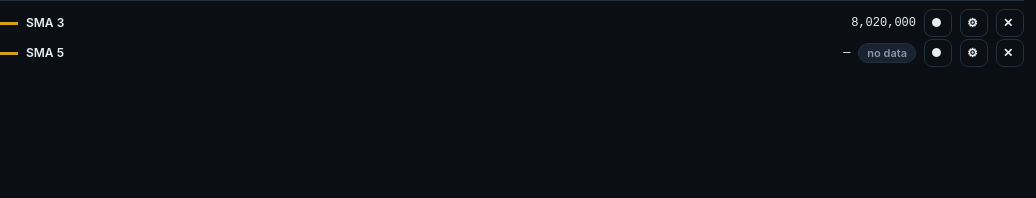
Test: indicator settings › refuses a change that would duplicate another row
Click the button named "SMA 3 settings".
click(974, 23)  # box [960,9,988,37]
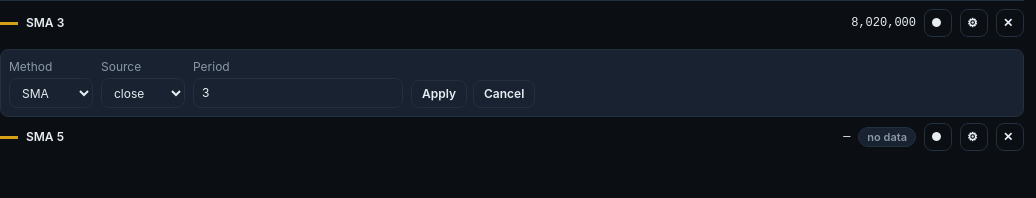
Replace the text in the field labelled "Period" with "5" at x=298, y=93, box [193,78,403,108]
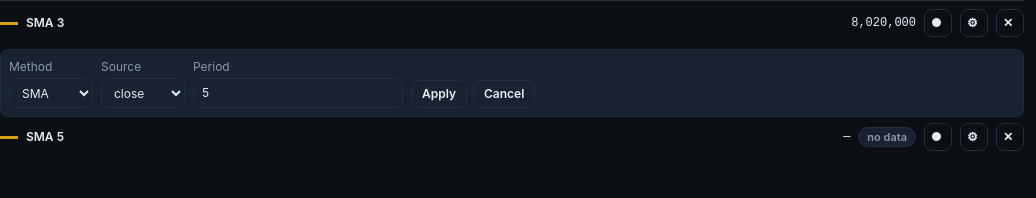
Click the button "Apply".
click(439, 94)  # box [411,80,467,108]
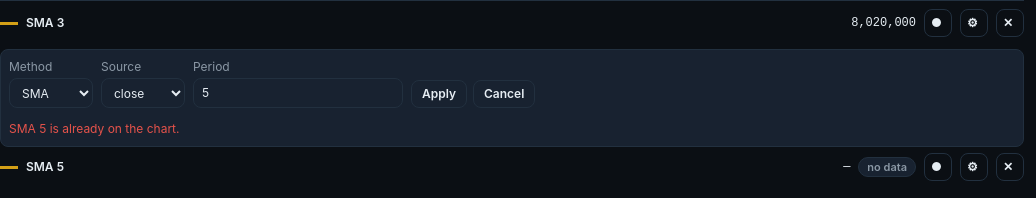
Result: the message shows "already on the chart" at [9,121,180,136]
